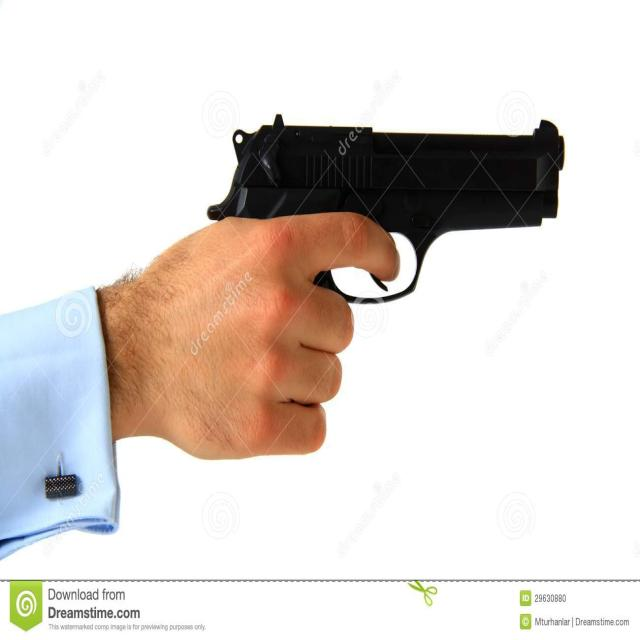HandGun: (207, 115, 565, 304)
